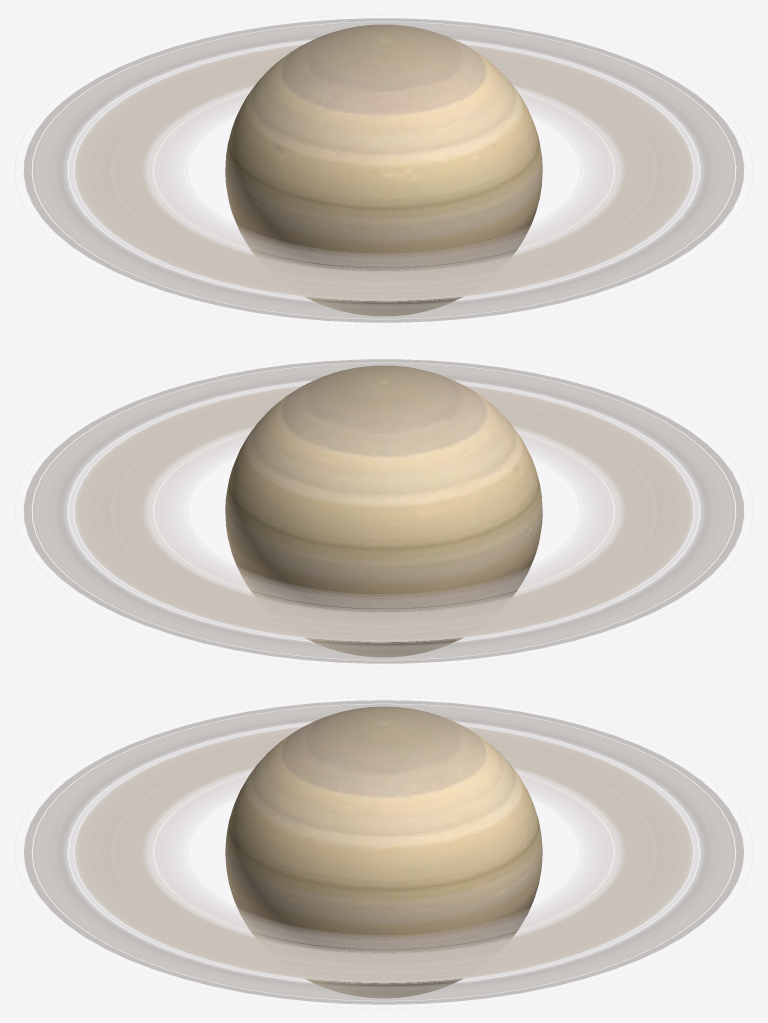
The model's file is nasaSaturn-transformed.glb.
3 views of the same model, one above another, from view 1: azimuth 30°, elevation 25°; view 2: azimuth 150°, elevation 25°; view 3: azimuth 270°, elevation 25° (orthographic).
Parts seen in each view (by area): view 1: RingsTop, Saturn.001; view 2: RingsTop, Saturn.001; view 3: RingsTop, Saturn.001.
Boxes of the visible parts, <box> form: RingsTop: <box>23,18,744,322</box>; Saturn.001: <box>225,24,542,315</box>; RingsTop: <box>23,359,744,663</box>; Saturn.001: <box>225,365,542,656</box>; RingsTop: <box>23,700,744,1004</box>; Saturn.001: <box>225,706,542,998</box>.
Size of the model in its own units: 2331 by 902 by 2331.
2 materials, 2 textured.
